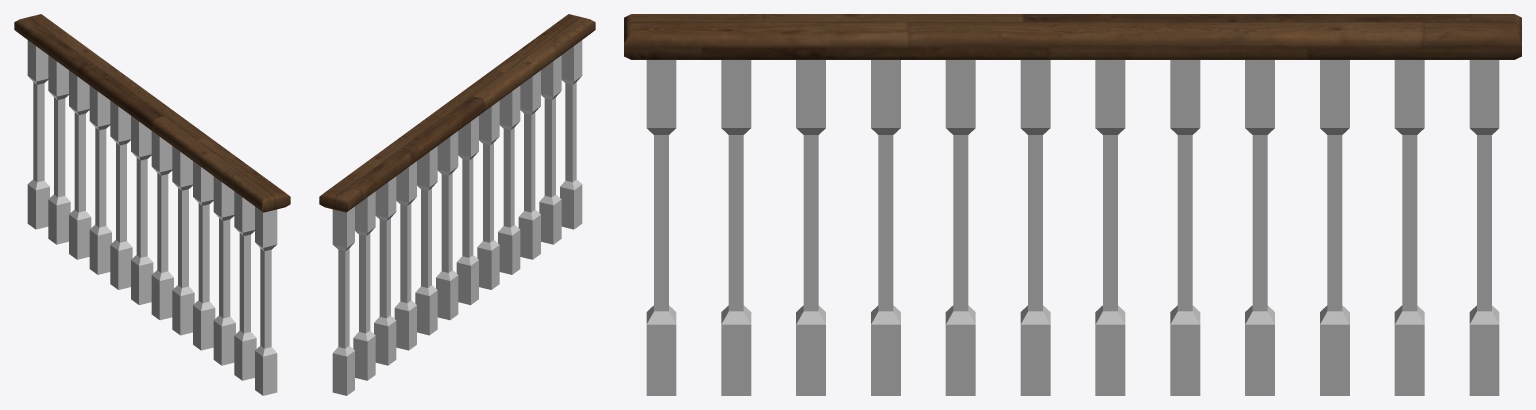
The model's file is railing.fbx.
3 views of the same model, side by side, from view 1: azimuth 30°, elevation 25°; view 2: azimuth 150°, elevation 25°; view 3: azimuth 270°, elevation 25° (orthographic). The views are drawn at different scales.
Visible parts, largest first — view 1: railing; view 2: railing; view 3: railing.
Part boxes in pixels (<box>): railing: <box>14,14,290,395</box>; railing: <box>319,14,595,395</box>; railing: <box>624,14,1521,395</box>.
Bounding box in the file's own units: 0.8 × 5.4 × 12.
Materials: 1 (1 with a texture image).
